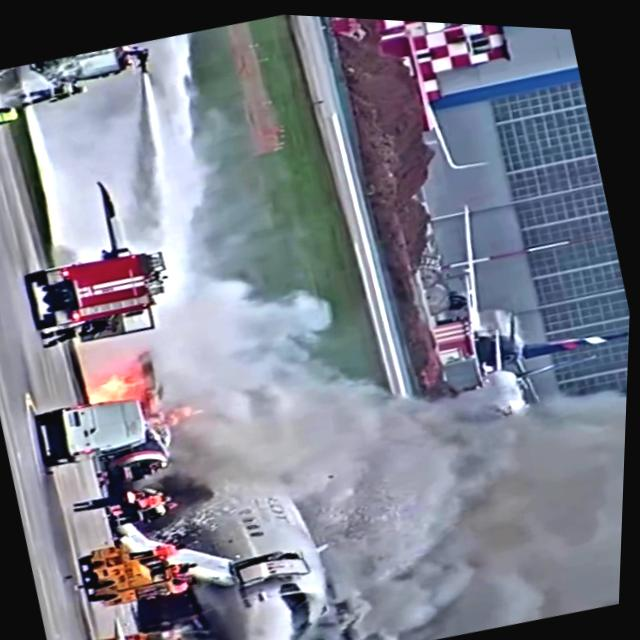smoke: (334, 370, 630, 640)
